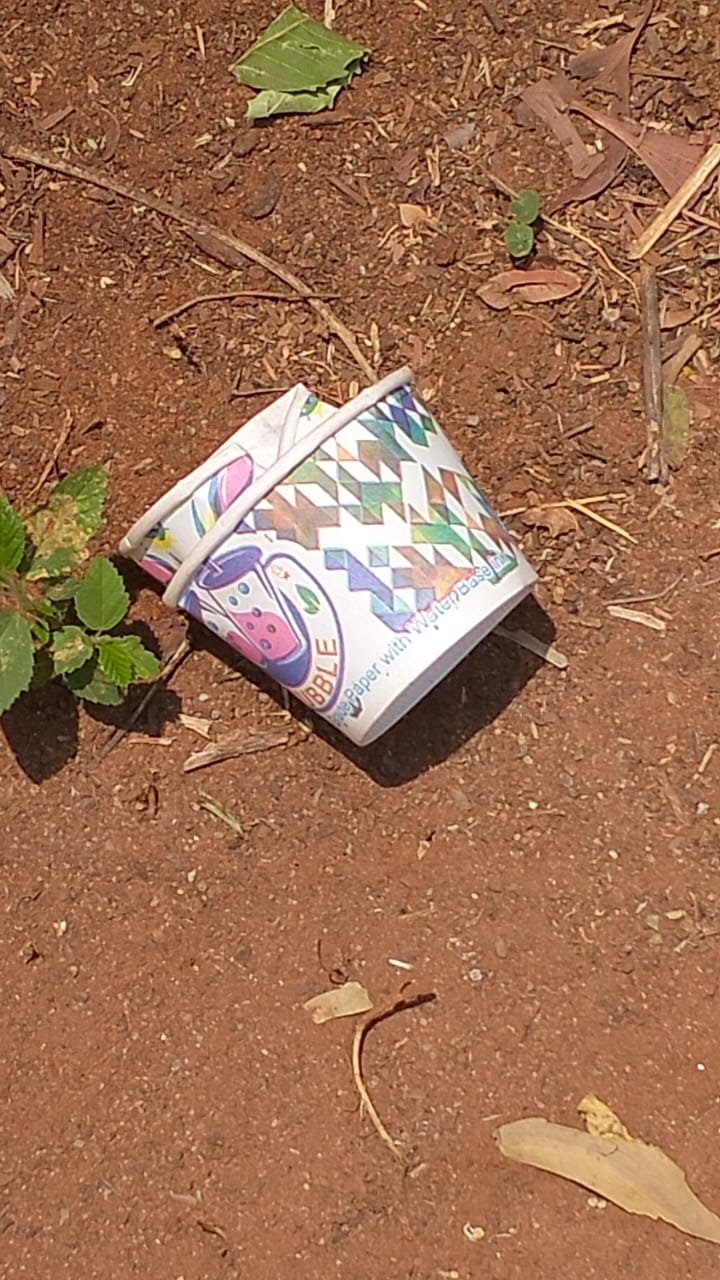pcup: (125, 390, 544, 745)
